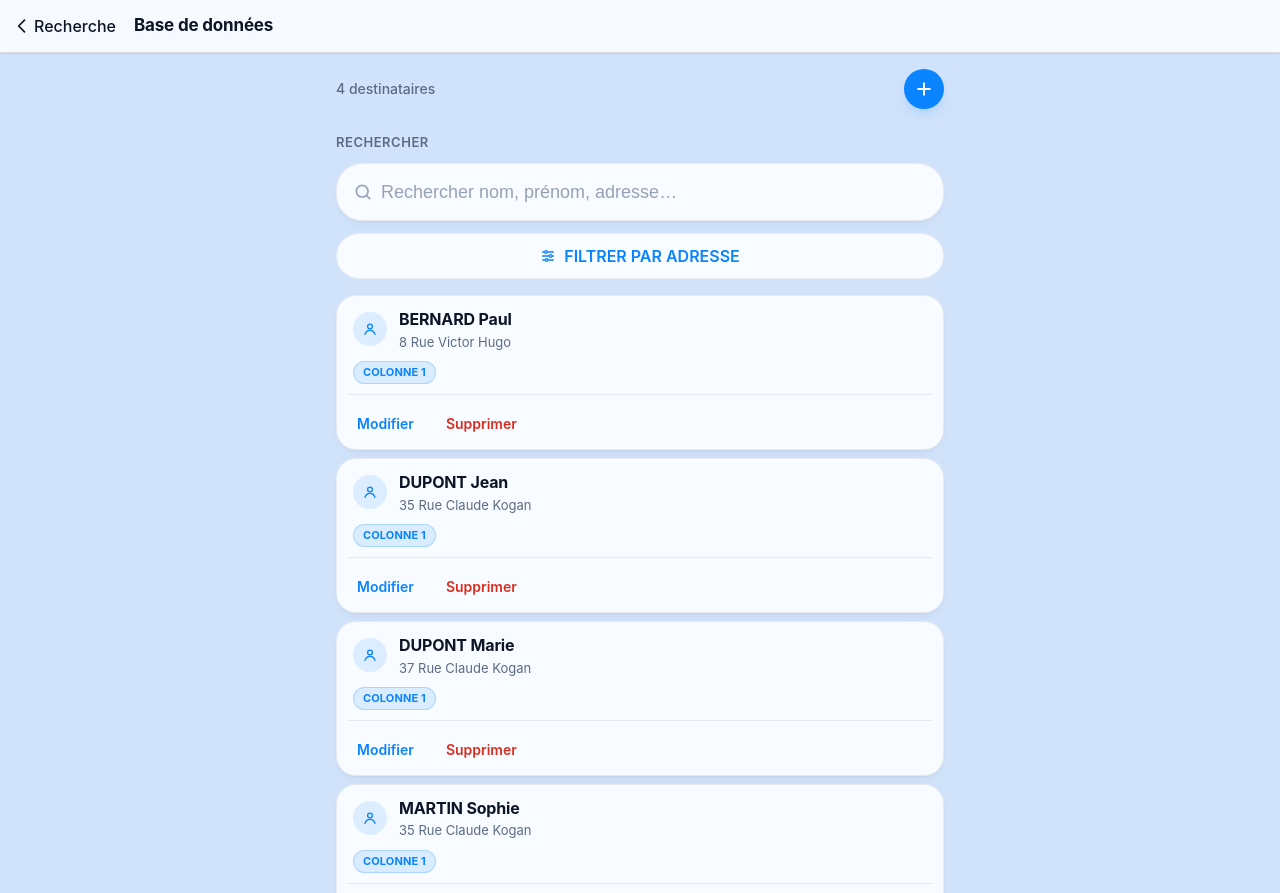
Test case: DatabasePage — filtre par adresse complète › 1./2. propose une case par adresse complète distincte (35 et 37 séparés)
The width and height of the screenshot is (1280, 893).
Click the button "FILTRER PAR ADRESSE".
click(640, 256)  # box [336,233,944,279]
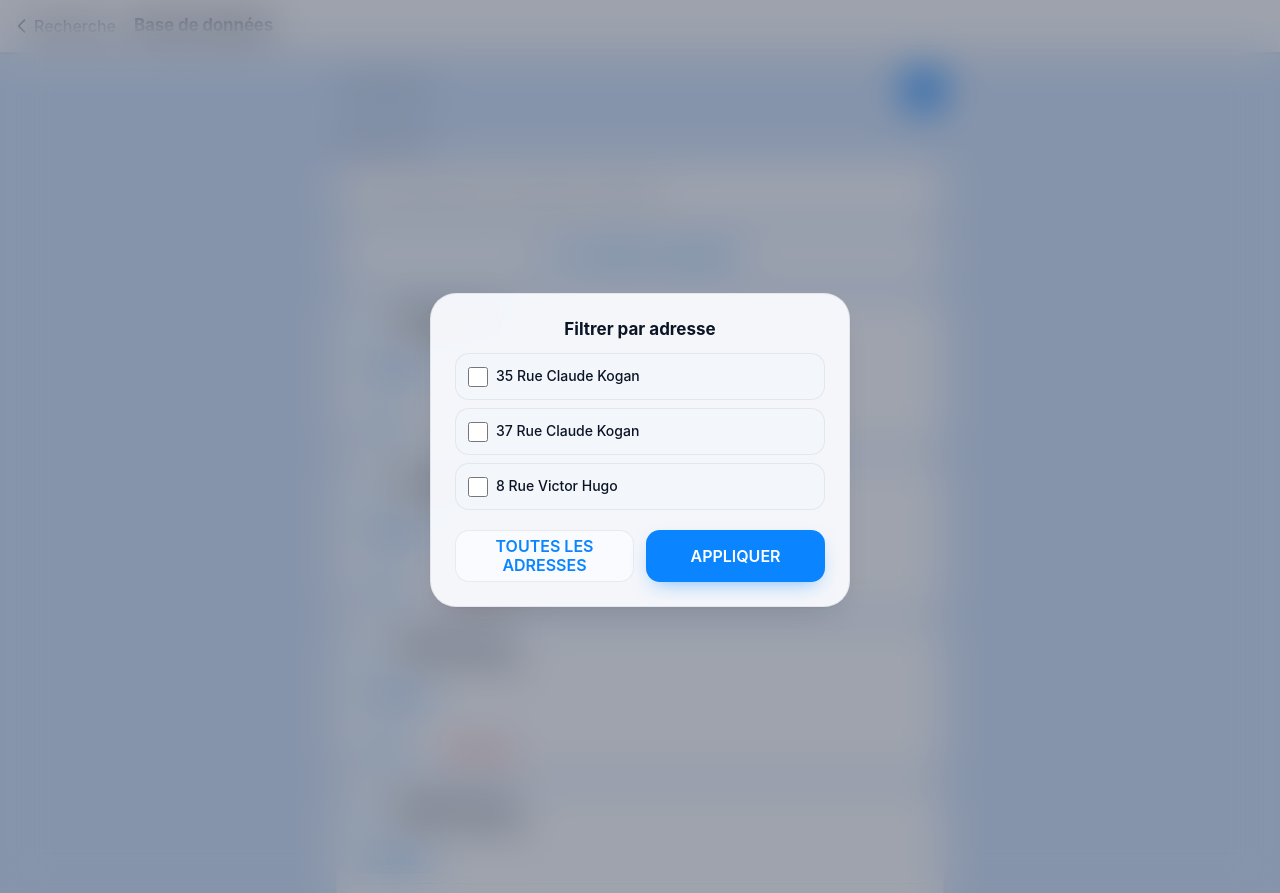
Expected: the checkbox labelled "35 Rue Claude Kogan" is shown, [468,367,488,387]
Expected: the checkbox labelled "37 Rue Claude Kogan" is shown, [468,422,488,442]
Expected: the checkbox labelled "8 Rue Victor Hugo" is shown, [468,477,488,497]
